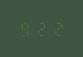nine: (18, 20, 32, 37)
two: (49, 19, 63, 36), (34, 20, 48, 36)
